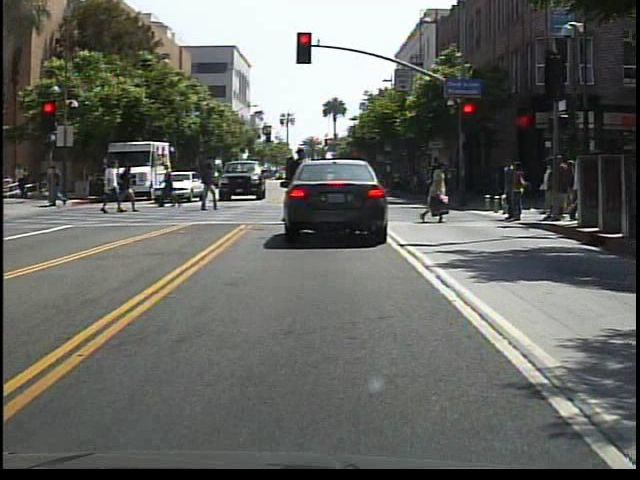person: (278, 140, 313, 229), (420, 158, 457, 228), (103, 160, 127, 219), (199, 161, 225, 215), (47, 162, 73, 214), (159, 162, 179, 212), (123, 165, 140, 214)
